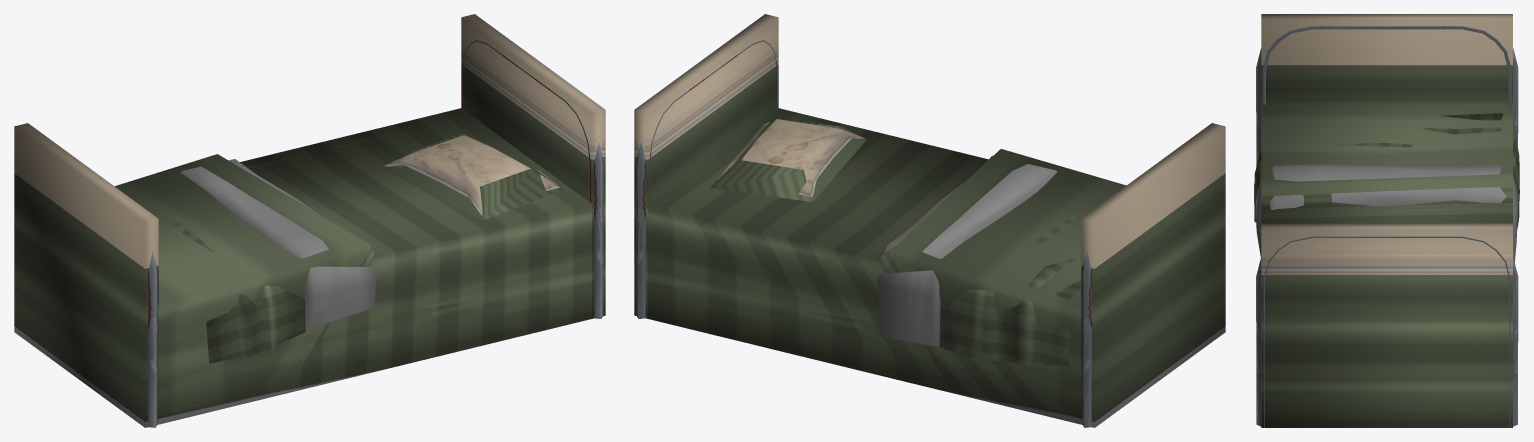
Rendered from bed03_C.fbx.
3 renders of one model, left to right at view 1: azimuth 30°, elevation 25°; view 2: azimuth 150°, elevation 25°; view 3: azimuth 270°, elevation 25°, orthographic. The views are drawn at different scales.
Visible parts, largest first — view 1: bed03_C_COL, bed03_C; view 2: bed03_C_COL, bed03_C; view 3: bed03_C_COL, bed03_C.
Boxes of the visible parts, bbox=[...] form: bed03_C_COL: bbox=[14, 14, 605, 427]; bed03_C: bbox=[148, 40, 603, 427]; bed03_C_COL: bbox=[634, 14, 1225, 427]; bed03_C: bbox=[636, 40, 1091, 427]; bed03_C_COL: bbox=[1261, 14, 1512, 427]; bed03_C: bbox=[1254, 26, 1519, 427].
Size of the model in its own units: 216 by 91.99 by 112.
